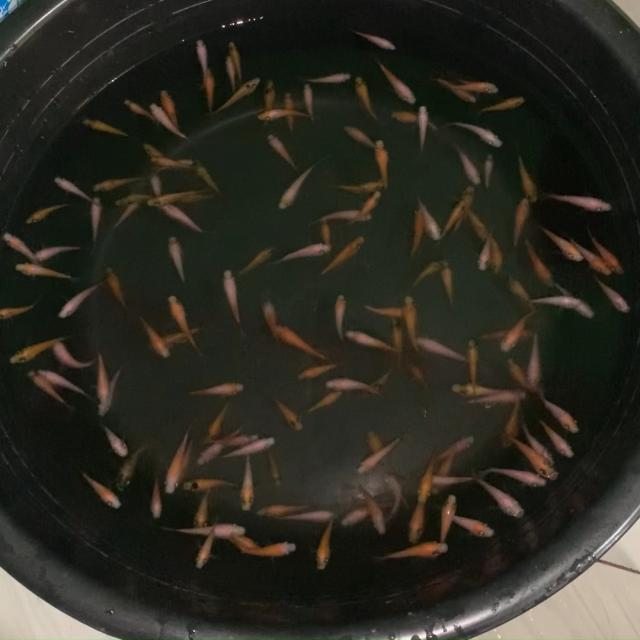nila: (507, 430, 561, 482), (164, 292, 204, 360), (217, 270, 253, 343), (472, 471, 527, 518), (6, 330, 68, 368), (568, 232, 618, 278), (193, 426, 245, 470), (586, 228, 632, 277), (270, 322, 326, 362), (24, 366, 70, 414), (354, 433, 404, 477), (115, 438, 154, 494), (374, 61, 420, 108), (58, 278, 109, 320), (276, 160, 316, 212), (39, 366, 99, 400), (480, 463, 550, 492), (78, 466, 125, 509), (212, 74, 261, 115), (52, 172, 104, 210), (536, 222, 584, 263), (544, 391, 585, 439), (406, 478, 434, 548), (140, 327, 203, 358), (165, 517, 246, 541), (449, 114, 506, 148), (150, 100, 194, 144), (356, 362, 402, 404), (520, 422, 560, 470), (497, 391, 526, 457), (340, 496, 396, 530), (424, 432, 474, 470), (92, 410, 130, 460), (165, 428, 192, 498), (512, 144, 544, 203), (200, 398, 239, 446), (374, 542, 452, 566), (354, 479, 388, 531), (184, 484, 218, 536), (321, 237, 365, 277), (47, 337, 96, 372), (378, 468, 410, 521), (364, 426, 399, 474), (506, 352, 544, 396), (538, 416, 576, 460), (261, 132, 301, 173), (15, 262, 86, 285), (416, 338, 474, 366), (166, 230, 193, 290), (416, 442, 442, 504), (592, 275, 634, 313), (314, 515, 341, 574), (94, 367, 122, 423), (436, 74, 482, 108), (413, 196, 443, 248), (220, 435, 282, 460), (140, 318, 175, 362), (478, 222, 506, 277), (522, 238, 554, 286), (159, 203, 208, 234), (177, 471, 246, 493), (546, 192, 617, 213), (404, 206, 428, 268), (273, 393, 307, 436), (470, 325, 543, 345), (344, 326, 396, 354), (238, 448, 260, 514), (558, 280, 594, 320), (249, 500, 321, 520), (501, 308, 534, 351), (354, 75, 384, 122), (238, 536, 302, 558), (3, 228, 40, 266), (239, 242, 275, 281), (327, 377, 390, 399), (299, 356, 348, 384), (448, 182, 474, 234), (432, 444, 459, 494), (304, 386, 346, 418), (417, 466, 483, 486), (451, 514, 498, 542), (278, 245, 334, 268), (505, 271, 537, 311), (199, 431, 274, 448), (350, 190, 385, 226), (450, 141, 480, 183), (407, 258, 445, 291), (106, 266, 132, 314), (192, 524, 218, 572), (348, 29, 402, 52), (452, 376, 514, 396), (392, 110, 443, 134), (25, 200, 70, 227), (510, 192, 530, 252), (465, 389, 527, 408), (32, 242, 90, 262), (372, 138, 392, 196), (439, 493, 458, 554), (0, 300, 41, 328), (465, 198, 492, 240), (405, 351, 434, 390), (437, 256, 460, 305), (404, 298, 424, 354), (526, 334, 544, 392), (184, 382, 249, 398), (176, 436, 198, 483), (160, 86, 183, 130), (146, 188, 196, 208), (274, 509, 340, 524), (92, 174, 143, 193), (194, 160, 220, 197), (82, 118, 130, 138), (453, 78, 501, 98), (464, 338, 480, 398), (230, 530, 265, 557), (479, 96, 526, 116), (150, 156, 194, 177), (260, 302, 282, 344), (122, 98, 157, 124), (94, 353, 110, 408), (338, 125, 376, 148), (528, 294, 586, 309), (416, 102, 432, 156), (260, 78, 278, 125), (334, 292, 349, 348), (194, 35, 210, 87), (364, 302, 416, 318), (228, 39, 247, 82), (314, 210, 376, 223), (88, 195, 104, 244), (475, 226, 492, 272), (265, 449, 286, 486), (306, 71, 354, 87), (388, 480, 412, 512), (256, 108, 315, 121), (112, 200, 140, 227), (442, 198, 464, 232), (202, 64, 216, 115), (394, 312, 407, 366), (302, 82, 319, 123), (115, 192, 158, 208), (481, 150, 497, 193), (283, 90, 299, 132), (338, 181, 386, 195), (174, 191, 215, 207), (150, 478, 164, 524), (152, 156, 192, 172), (223, 54, 238, 90), (146, 171, 166, 198), (144, 141, 168, 162), (320, 217, 332, 251)
